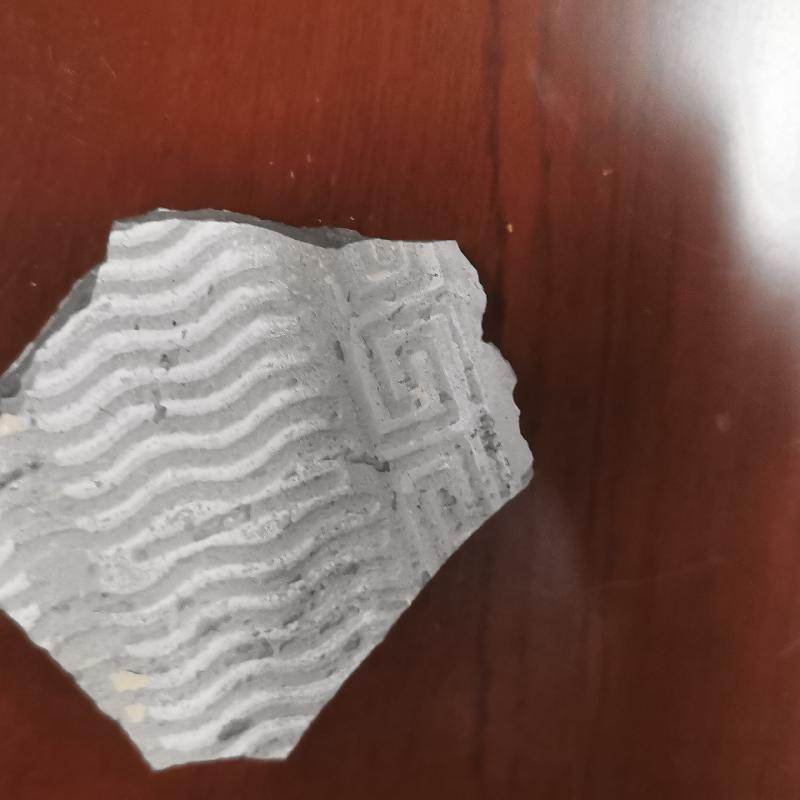tile: (4, 201, 544, 777)
